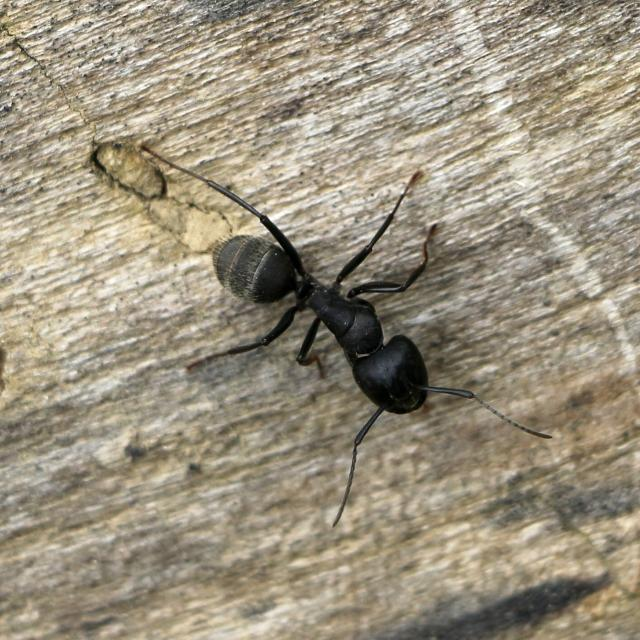Camponotus: (153, 155, 505, 455)
